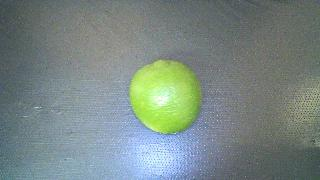EXPORTACION: (129, 60, 202, 134)
